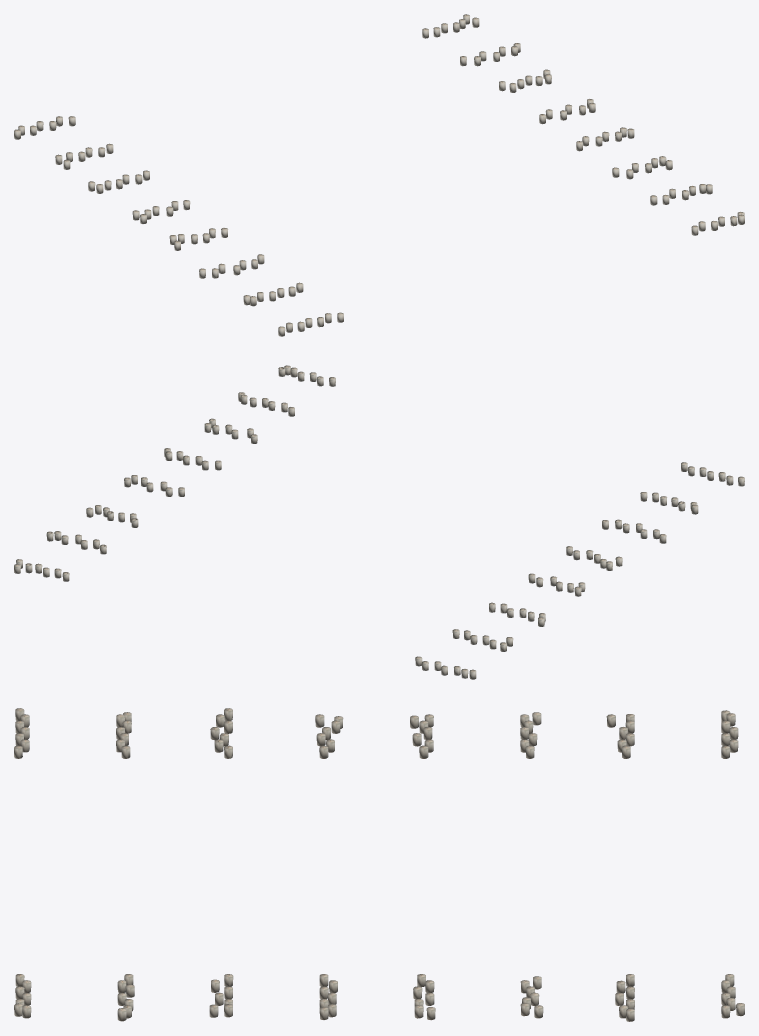
File: velassimples.obj
3 views of the same model, one above another, from view 1: azimuth 30°, elevation 25°; view 2: azimuth 150°, elevation 25°; view 3: azimuth 270°, elevation 25° (orthographic). The views are drawn at different scales.
Visible parts, largest first — view 1: vela1tumba1; view 2: vela1tumba1; view 3: vela1tumba1.
Boxes of the visible parts, x1,y1,x2,y2 form: vela1tumba1: (14, 14, 744, 336); vela1tumba1: (14, 365, 744, 679); vela1tumba1: (14, 708, 744, 1021).
Size of the model in its own units: 5.36 by 0.1101 by 5.44.
15 materials, 15 textured.
